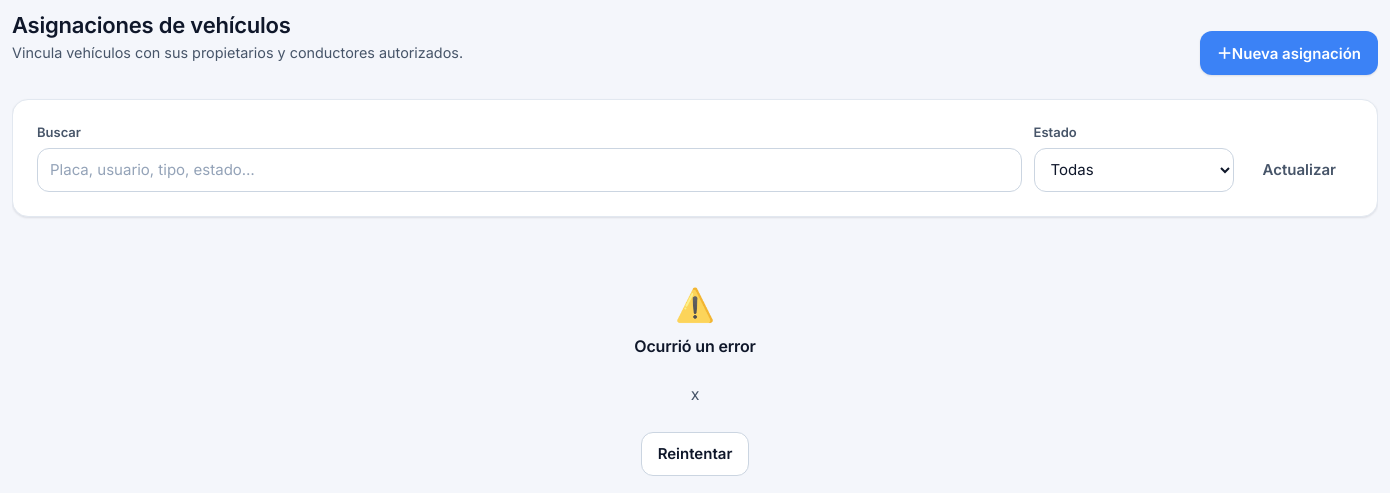
Test: AsignacionesVehiculosPage › error con reintento
Expected: the heading "Ocurrió un error" is shown, [634,336,756,356]
Click the button "Reintentar". click: (695, 454)
box: [641,432,749,476]
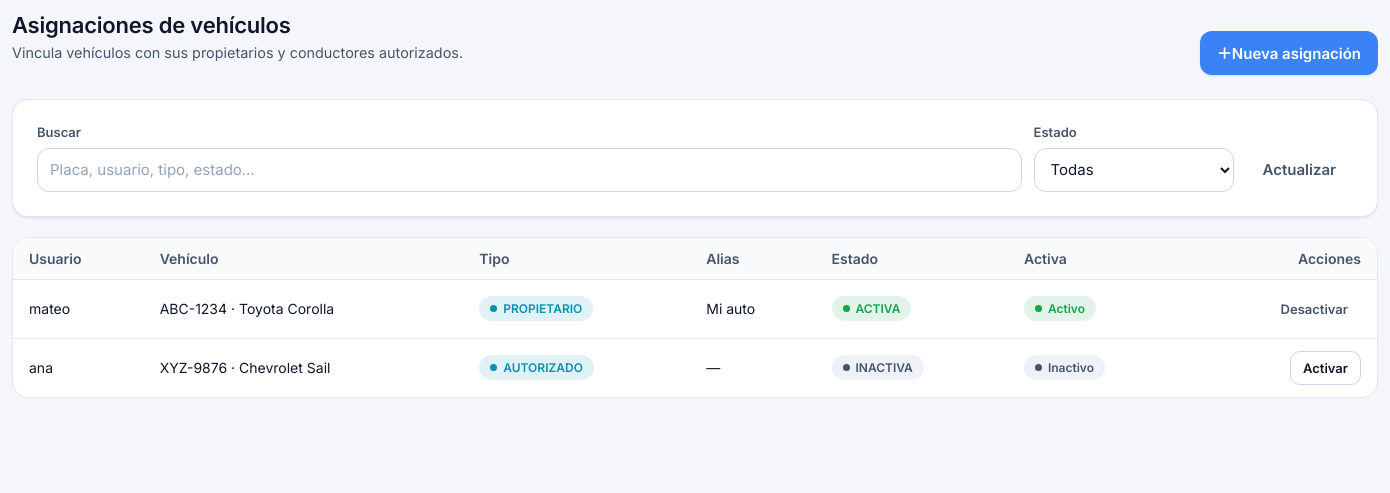
Expected: the text "mateo" is shown, [13,279,144,338]
